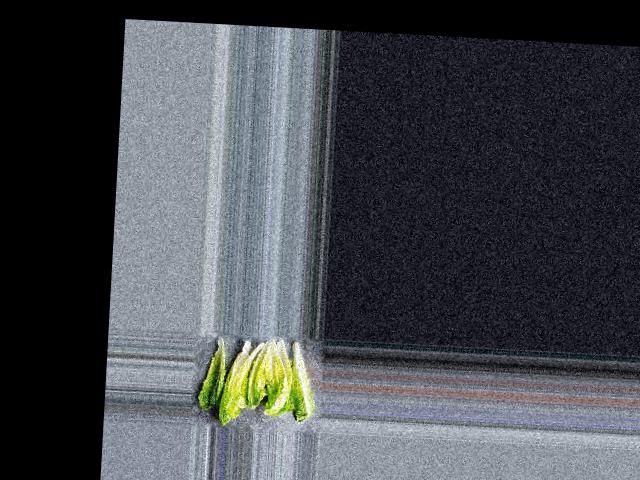lettuce: (200, 333, 228, 410)
